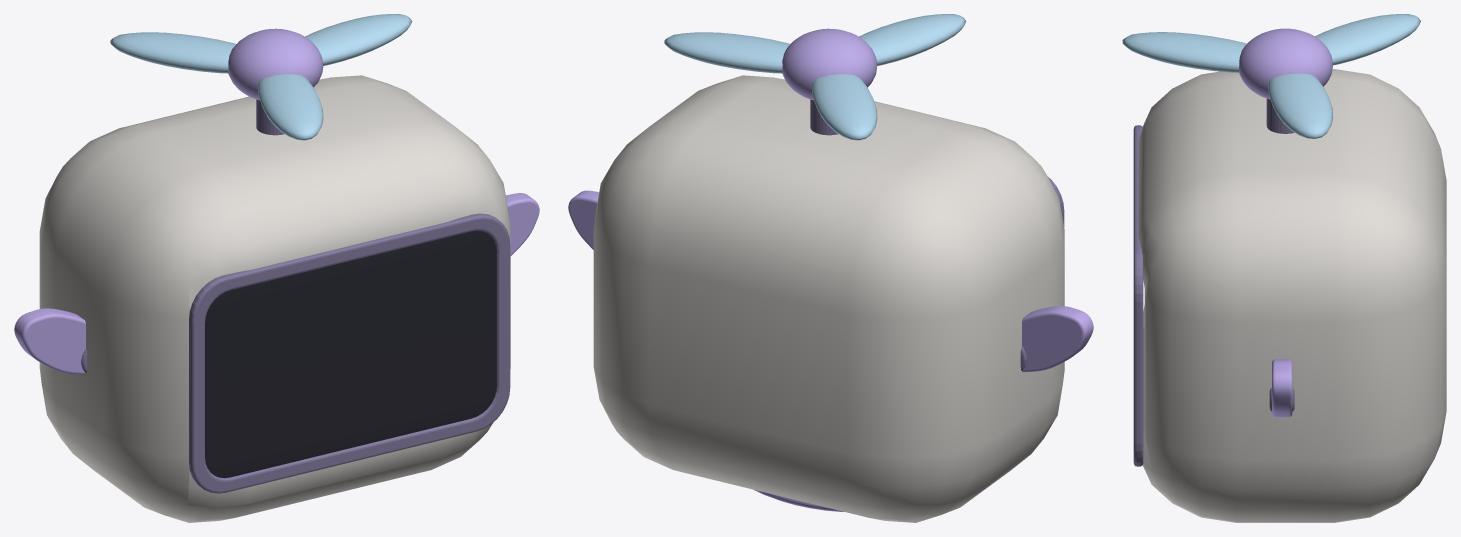
The model's file is halo-improved.glb.
3 views of the same model, side by side, from view 1: azimuth 30°, elevation 25°; view 2: azimuth 150°, elevation 25°; view 3: azimuth 270°, elevation 25° (orthographic).
Visible parts, largest first — view 1: HeadShell, FaceScreen, FaceBezel, PropellerBlades, PropellerHub, SideFin.L, SideFin.R; view 2: HeadShell, PropellerBlades, PropellerHub, SideFin.L, SideFin.R; view 3: HeadShell, PropellerBlades, PropellerHub, FaceBezel, SideFin.R, PropellerMast.
Part boxes in pixels (x1,y1,x2,y2): HeadShell: (39,75,510,522); FaceScreen: (205,230,496,478); FaceBezel: (189,213,510,493); PropellerBlades: (110,14,412,140); PropellerHub: (228,28,323,100); SideFin.L: (14,308,85,374); SideFin.R: (506,193,539,255); HeadShell: (593,75,1064,522); PropellerBlades: (664,14,966,140); PropellerHub: (782,28,877,100); SideFin.L: (1022,306,1093,372); SideFin.R: (568,190,599,249); HeadShell: (1138,69,1446,522); PropellerBlades: (1122,14,1420,138); PropellerHub: (1239,28,1332,99); FaceBezel: (1133,125,1143,466); SideFin.R: (1272,359,1292,417); PropellerMast: (1266,98,1294,133).
Size of the model in its own units: 2.11 by 1.77 by 1.16.
